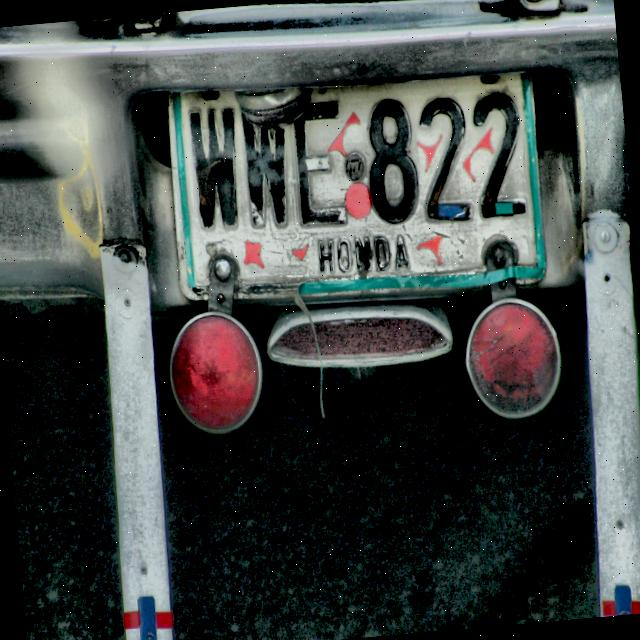2: (467, 86, 532, 226), (412, 90, 476, 230)
8: (360, 94, 422, 228)
E: (288, 94, 349, 234)
W: (184, 101, 247, 236), (236, 98, 296, 230)
